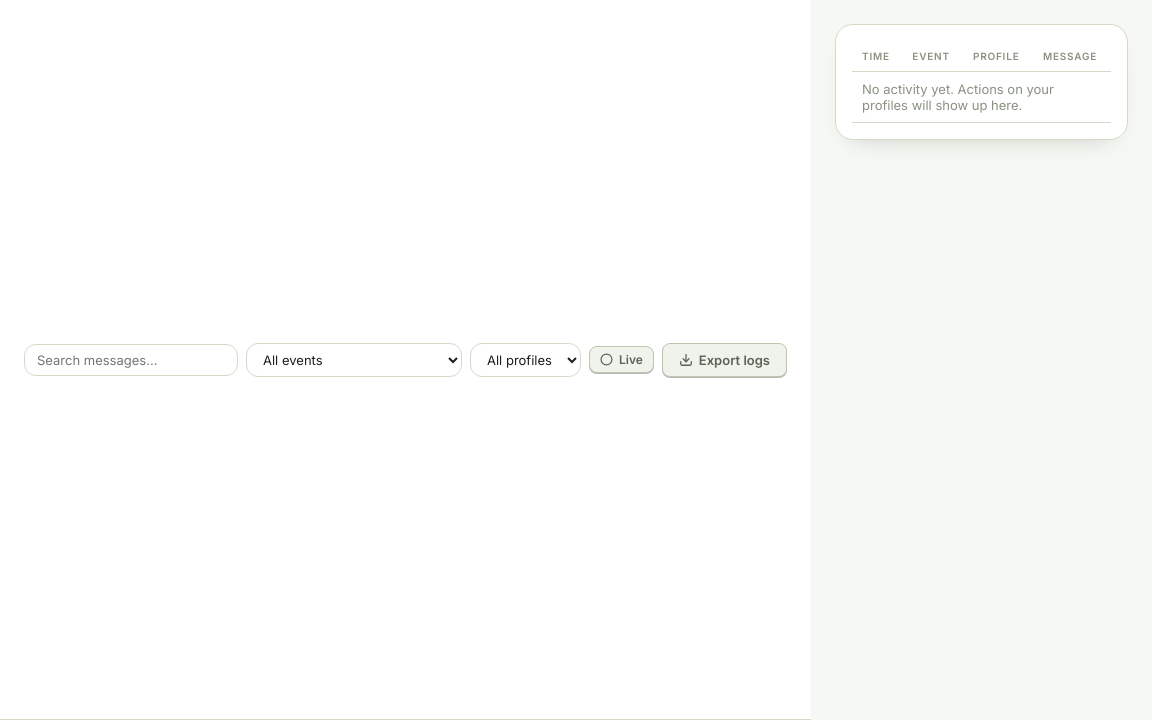
LogsPage › "Export logs" shows an error banner when the export fails
Expected: the text "No activity yet. Actions on your profiles will show up here." is shown, top-left (852, 72), bottom-right (1111, 122)
Step 1. Click the button "Export logs" → (724, 360), box top-left (662, 342), bottom-right (787, 376)
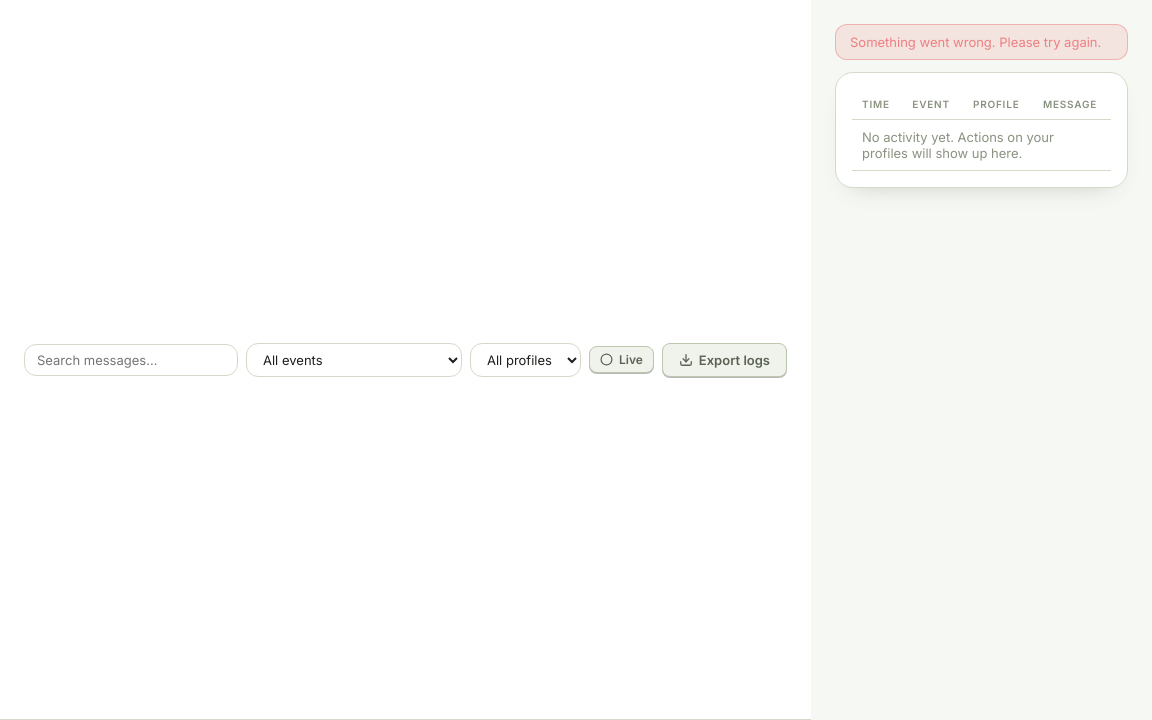
Now the text "Something went wrong. Please try again." is shown, box top-left (835, 24), bottom-right (1128, 60)
